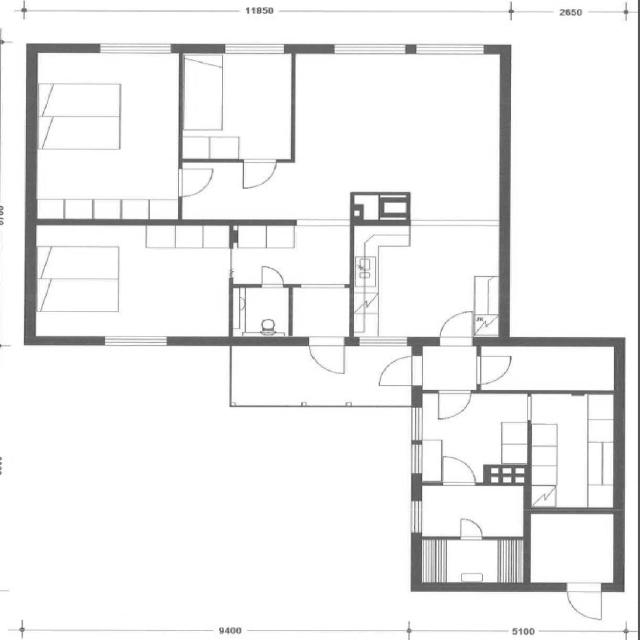door: (369, 352, 422, 392), (304, 334, 349, 379), (563, 580, 607, 624), (472, 347, 519, 388), (171, 161, 218, 200), (434, 306, 478, 346), (238, 155, 280, 192), (432, 387, 475, 422), (438, 452, 478, 486), (204, 245, 237, 276), (256, 262, 288, 290), (457, 515, 486, 541)
window: (404, 402, 428, 482), (93, 36, 180, 56), (95, 331, 176, 350), (327, 39, 415, 56), (410, 40, 490, 55), (218, 40, 290, 56), (406, 493, 426, 537), (407, 439, 425, 477)
zone: (293, 50, 512, 208), (29, 46, 184, 223), (29, 220, 232, 342), (346, 220, 504, 344), (180, 48, 295, 160), (528, 391, 620, 509), (231, 221, 353, 287), (526, 511, 620, 588), (418, 479, 530, 541), (414, 538, 528, 587), (230, 285, 292, 339)
